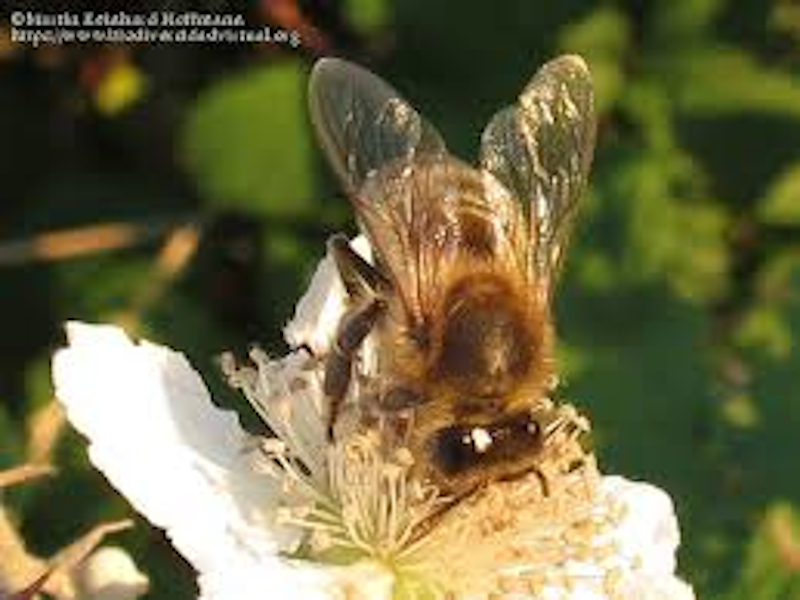abeja: (241, 28, 624, 494)
